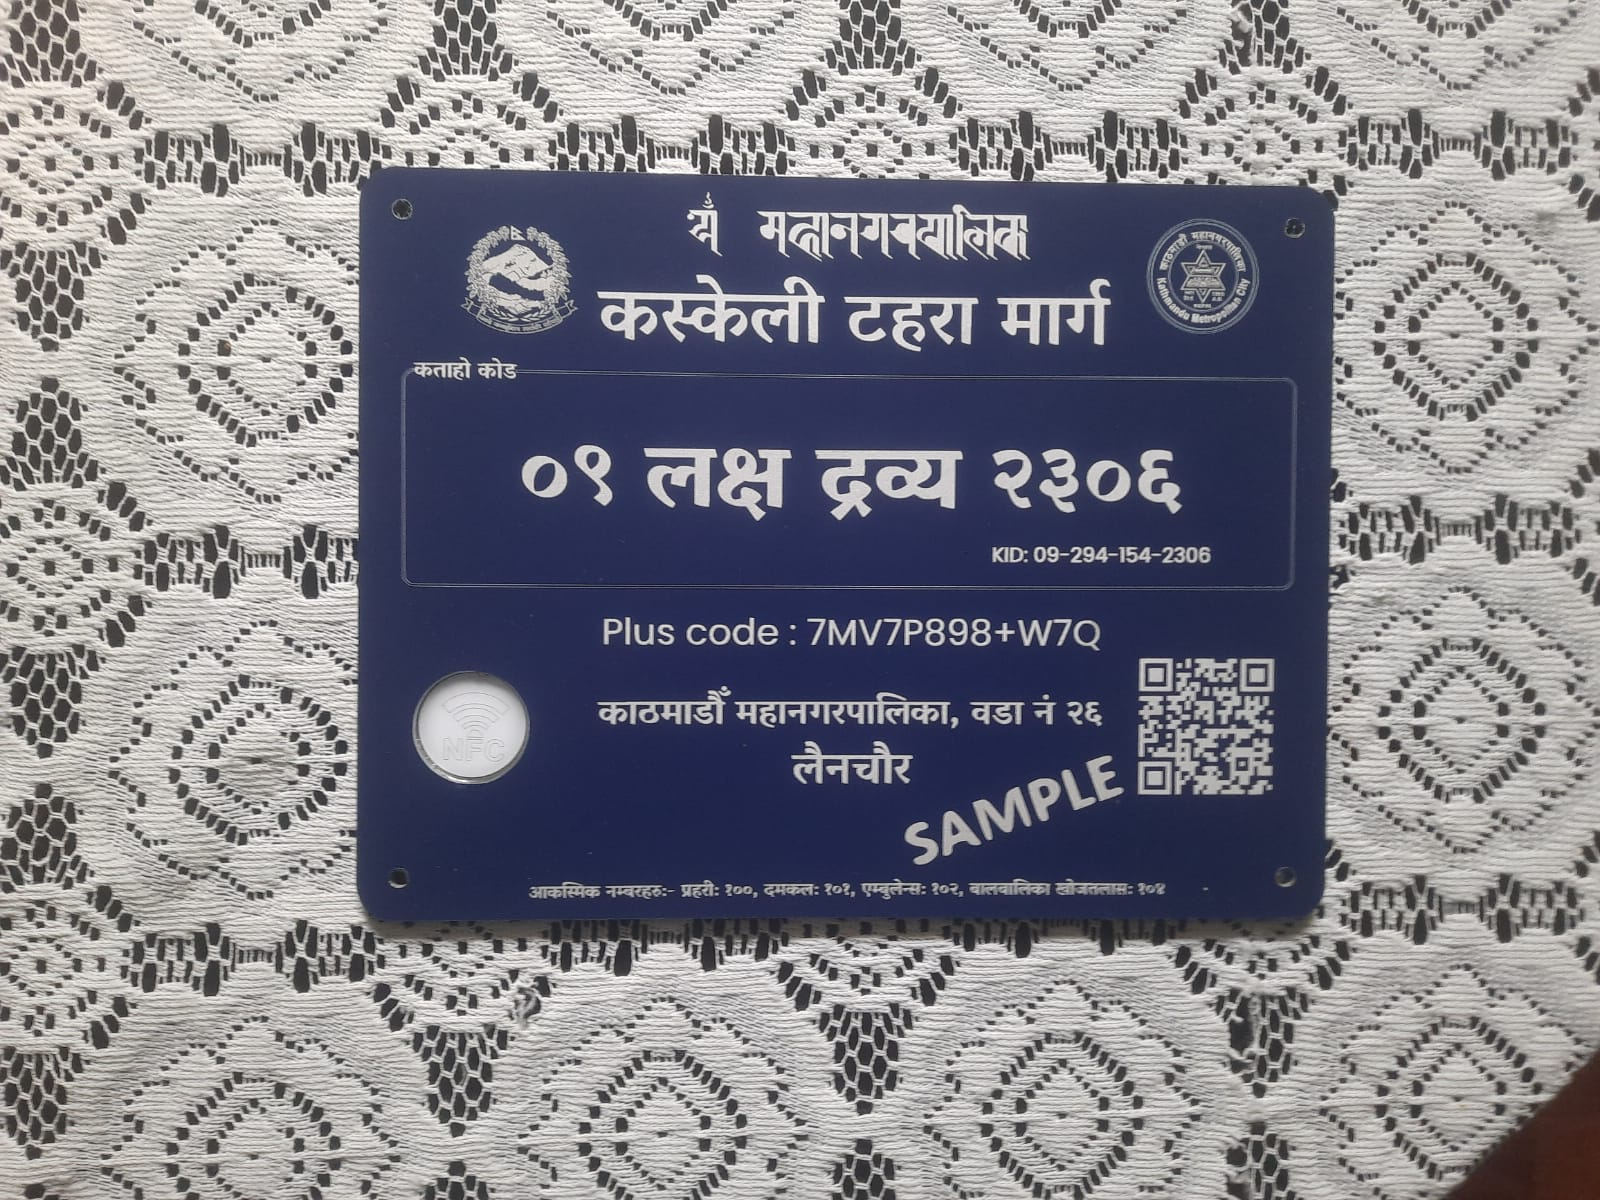Plate: (352, 161, 1336, 932)
